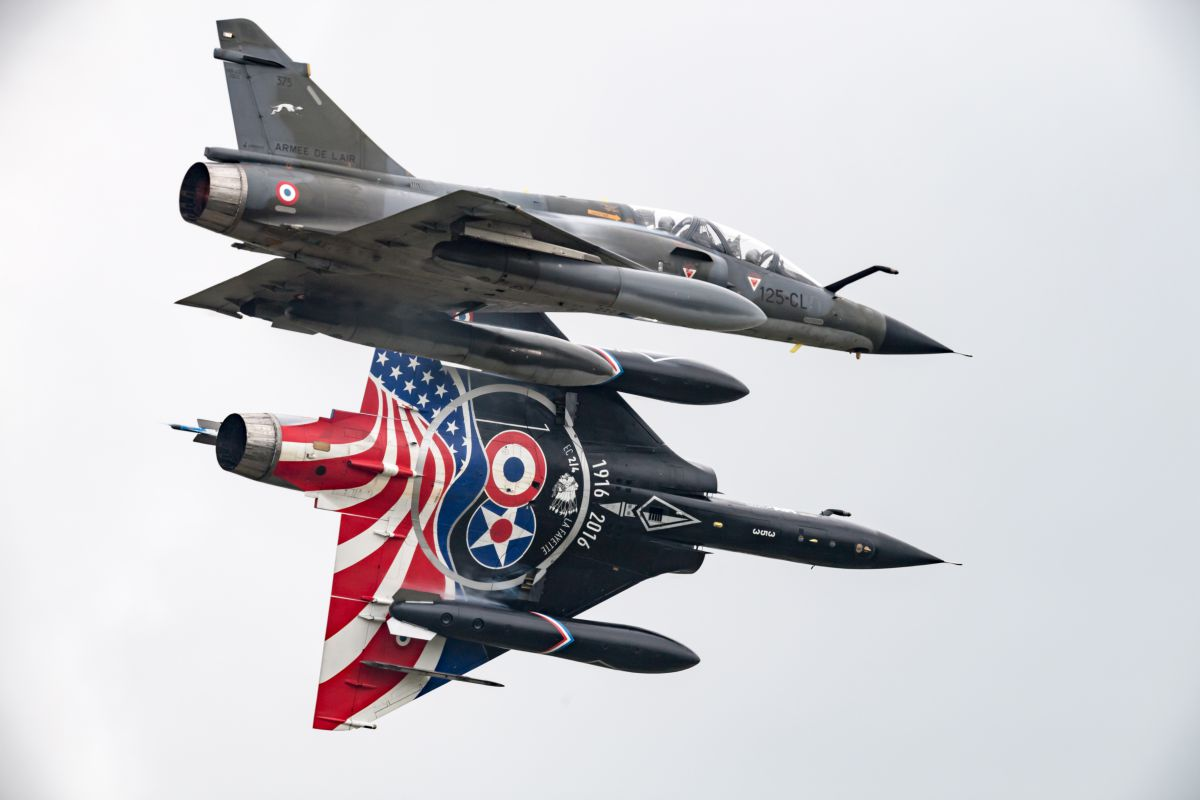Mirage2000: (163, 312, 964, 731), (172, 18, 973, 388)
